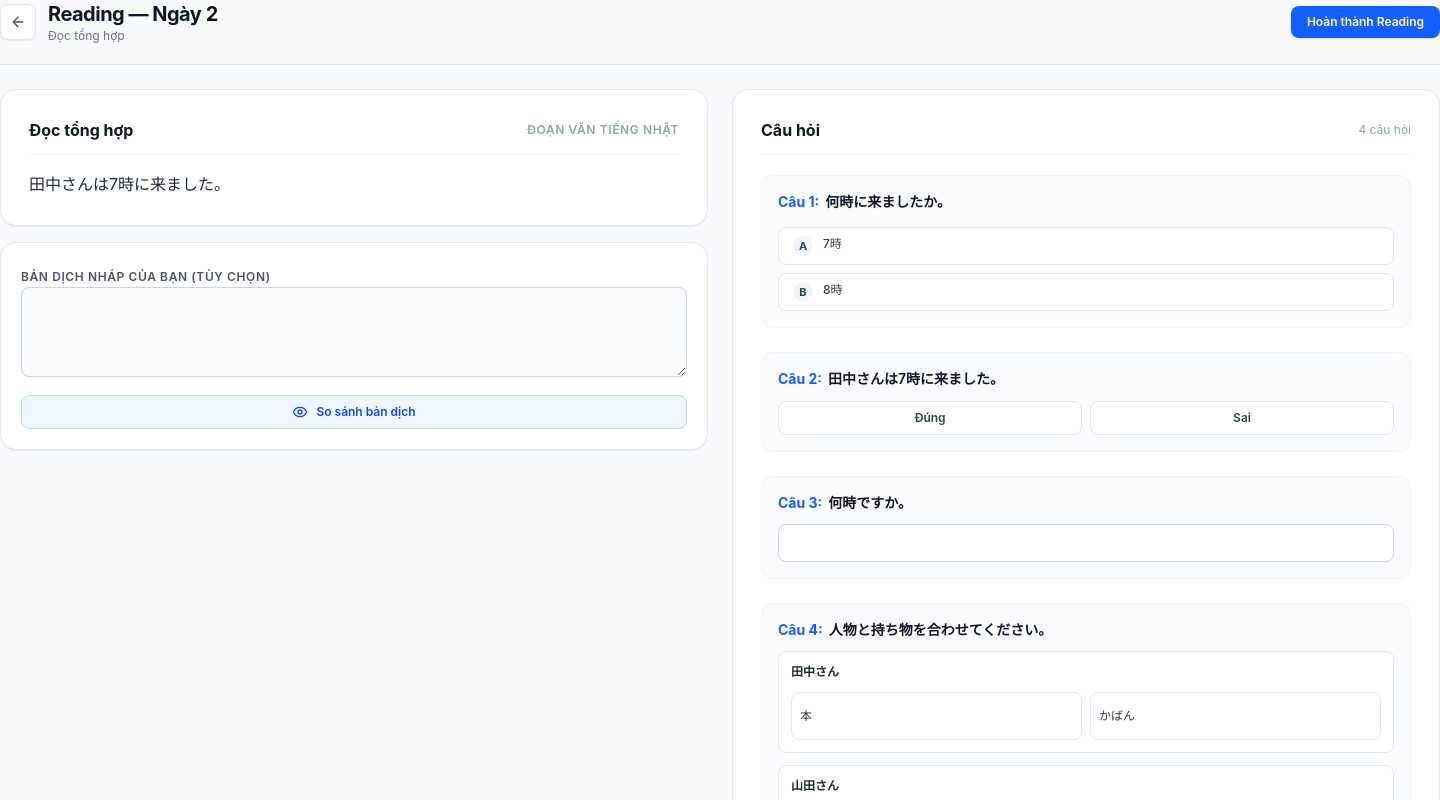
Reading schema v1.4 interactions › keeps existing text MCQ, true/false, short-answer, and matching behavior
Click the button "B 8時" at (803, 292), box [778,273,1394,311]
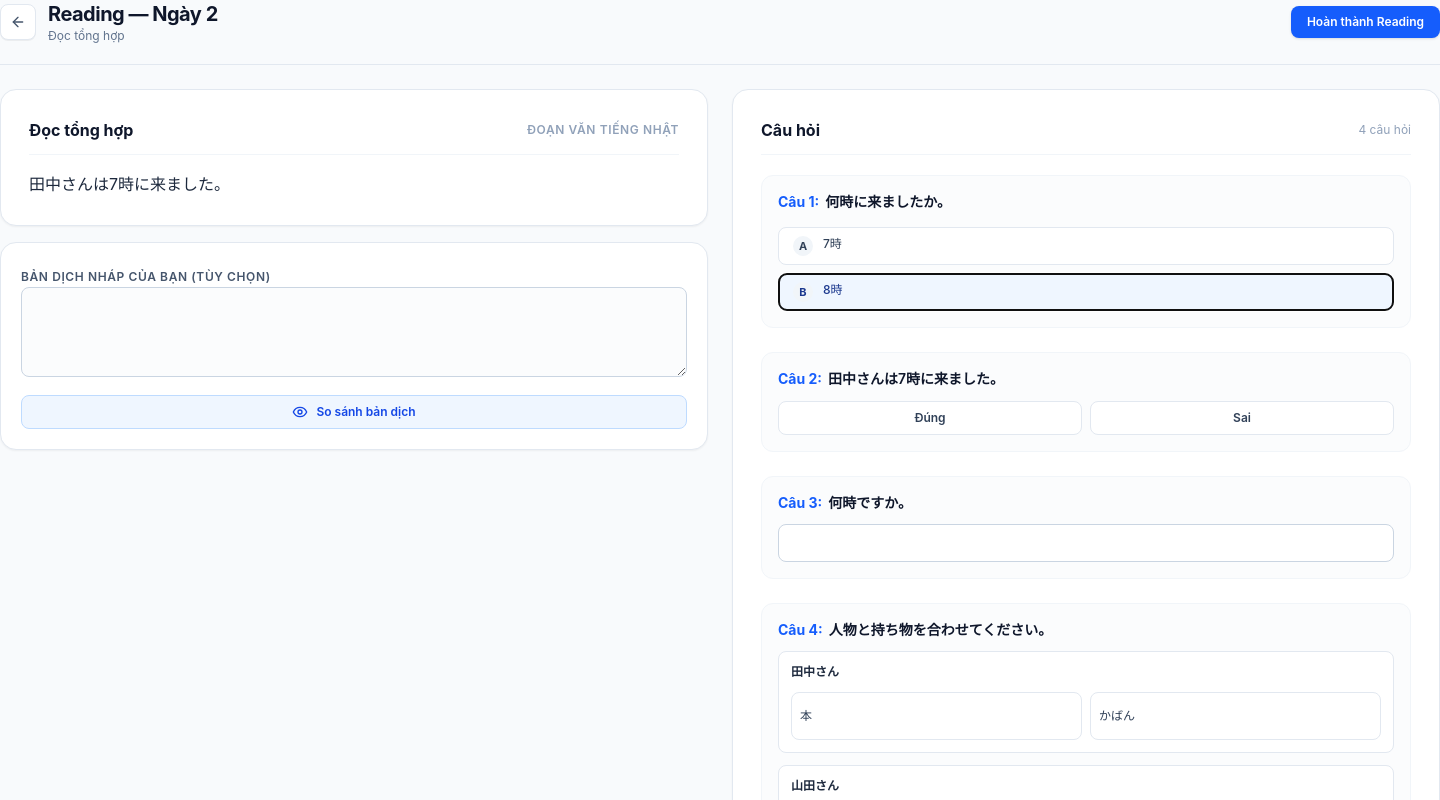
Click the button "Sai" at (1242, 418), box [1090,400,1394,434]
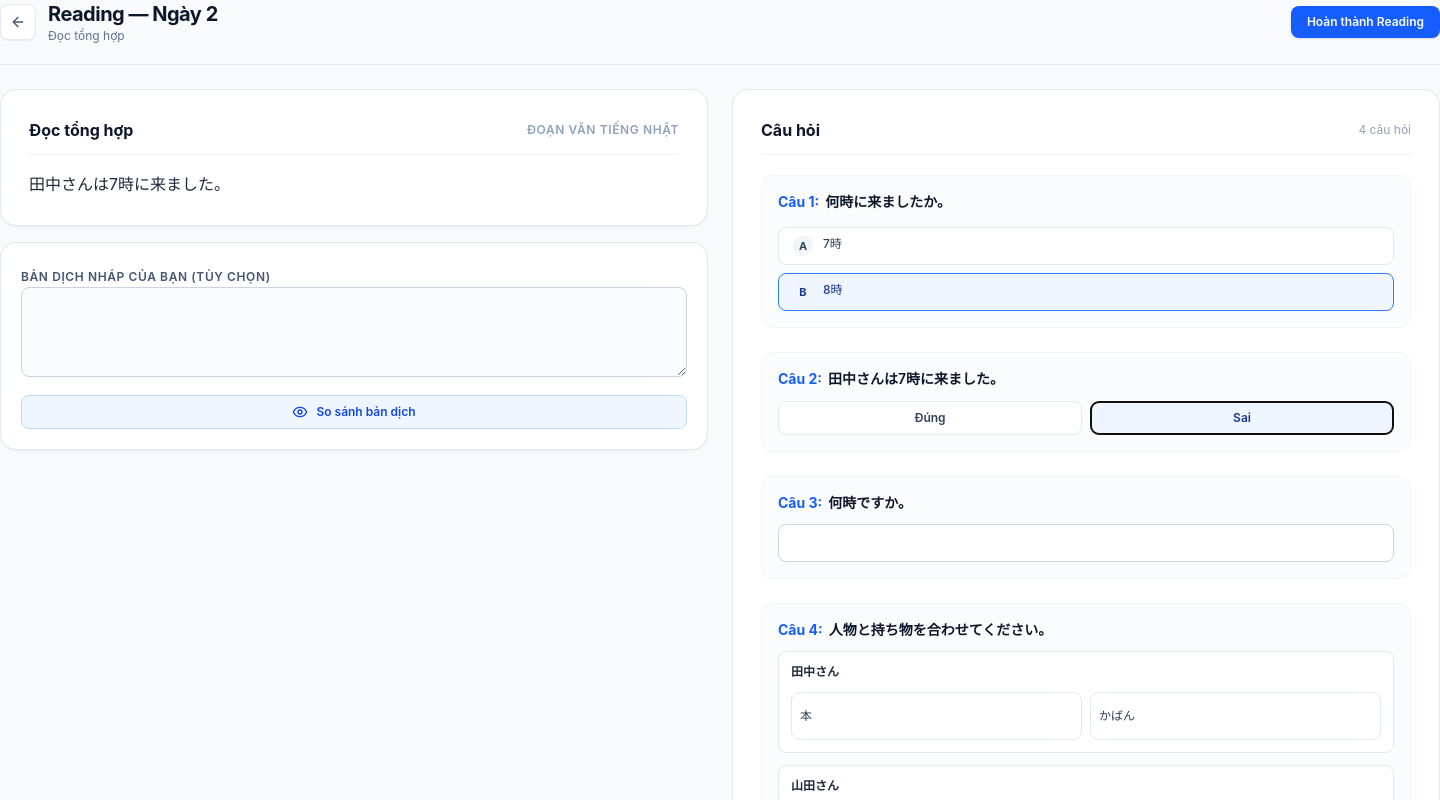
Type "  7時  " into the field named "Câu trả lời cho short" at (1086, 543), box [778,524,1394,562]
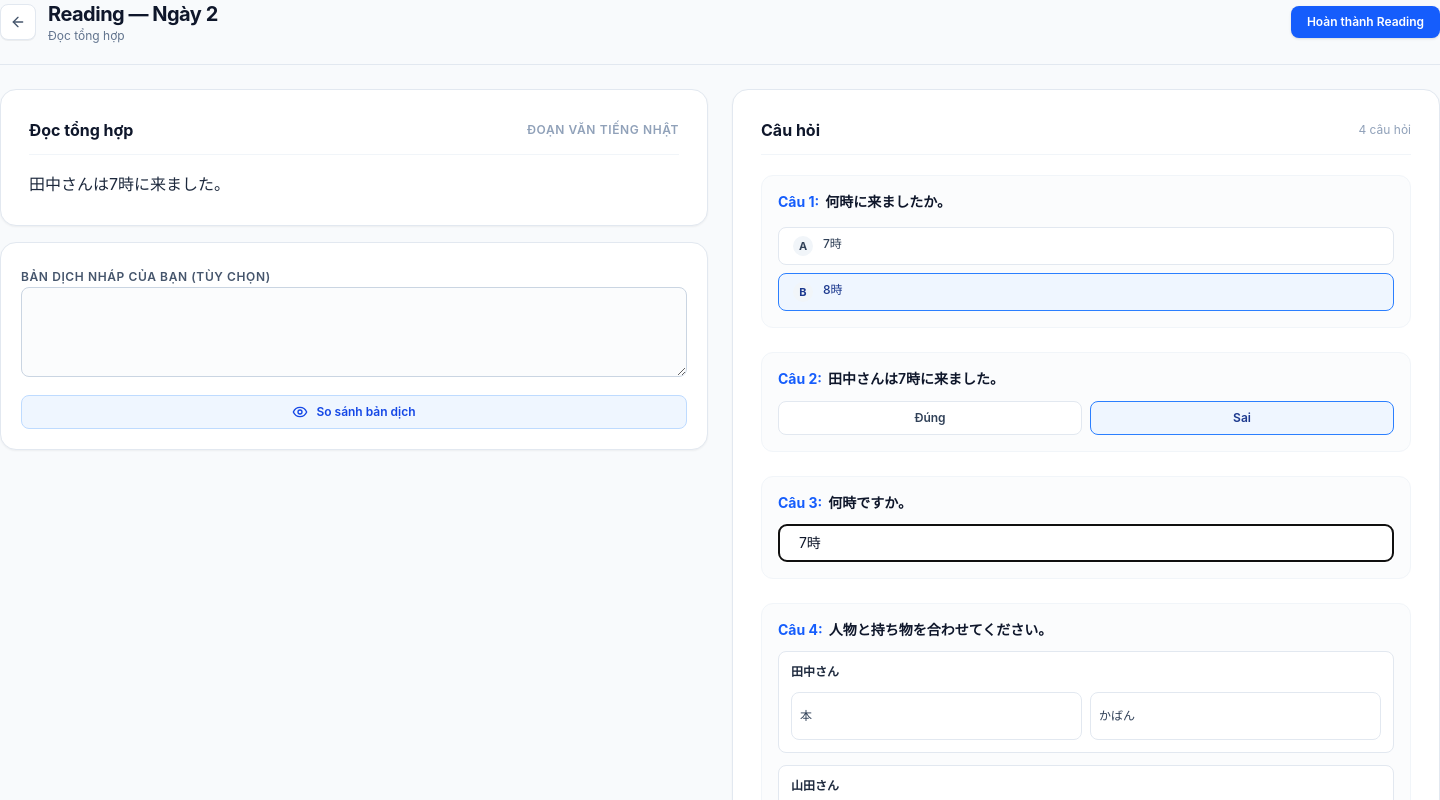
Click the button with test id "matching-candidate-matching-L1-R2" at (1117, 716), box [1090,692,1381,740]
(page scrolled)
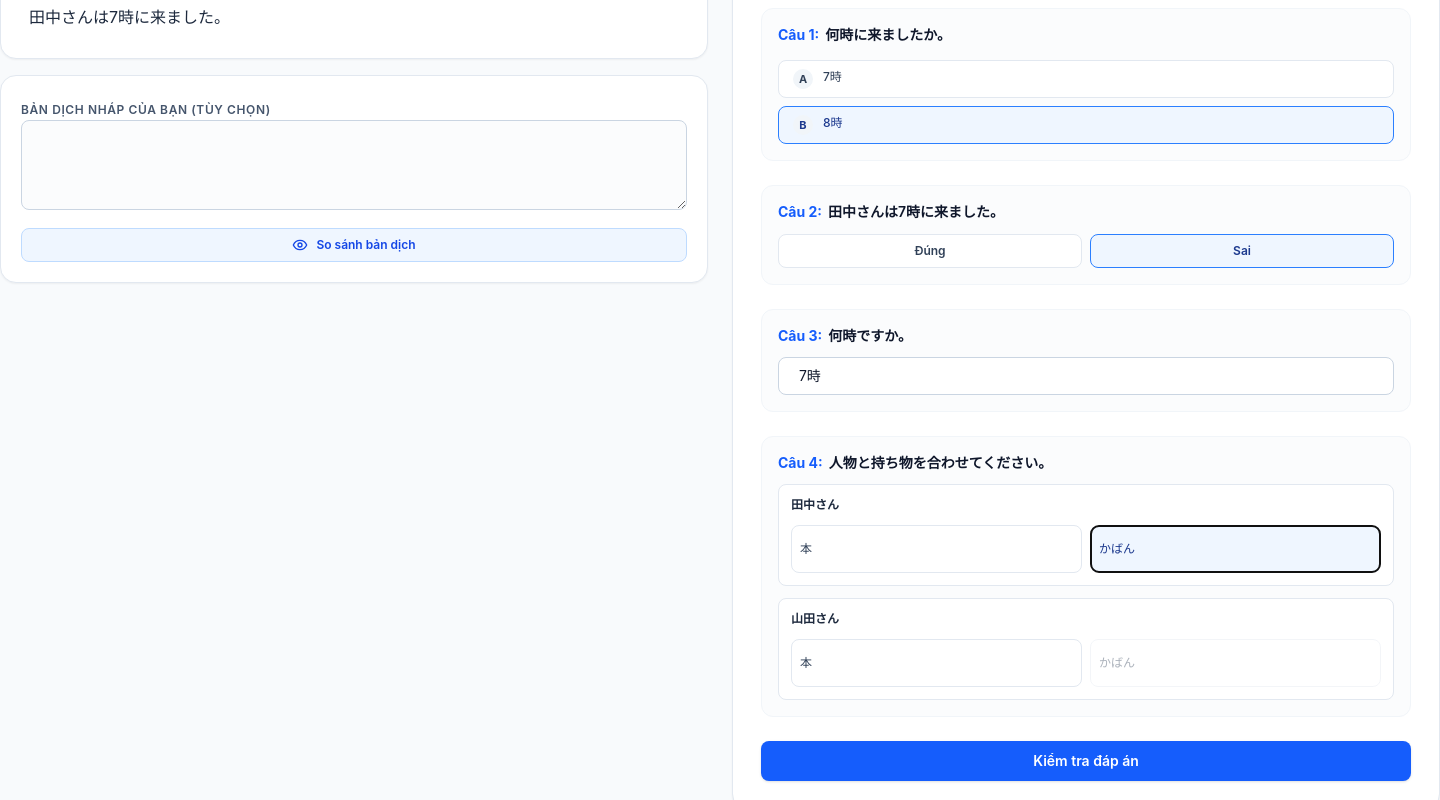
Click the button with test id "matching-candidate-matching-L2-R1" at (806, 662), box [791,639,1082,687]
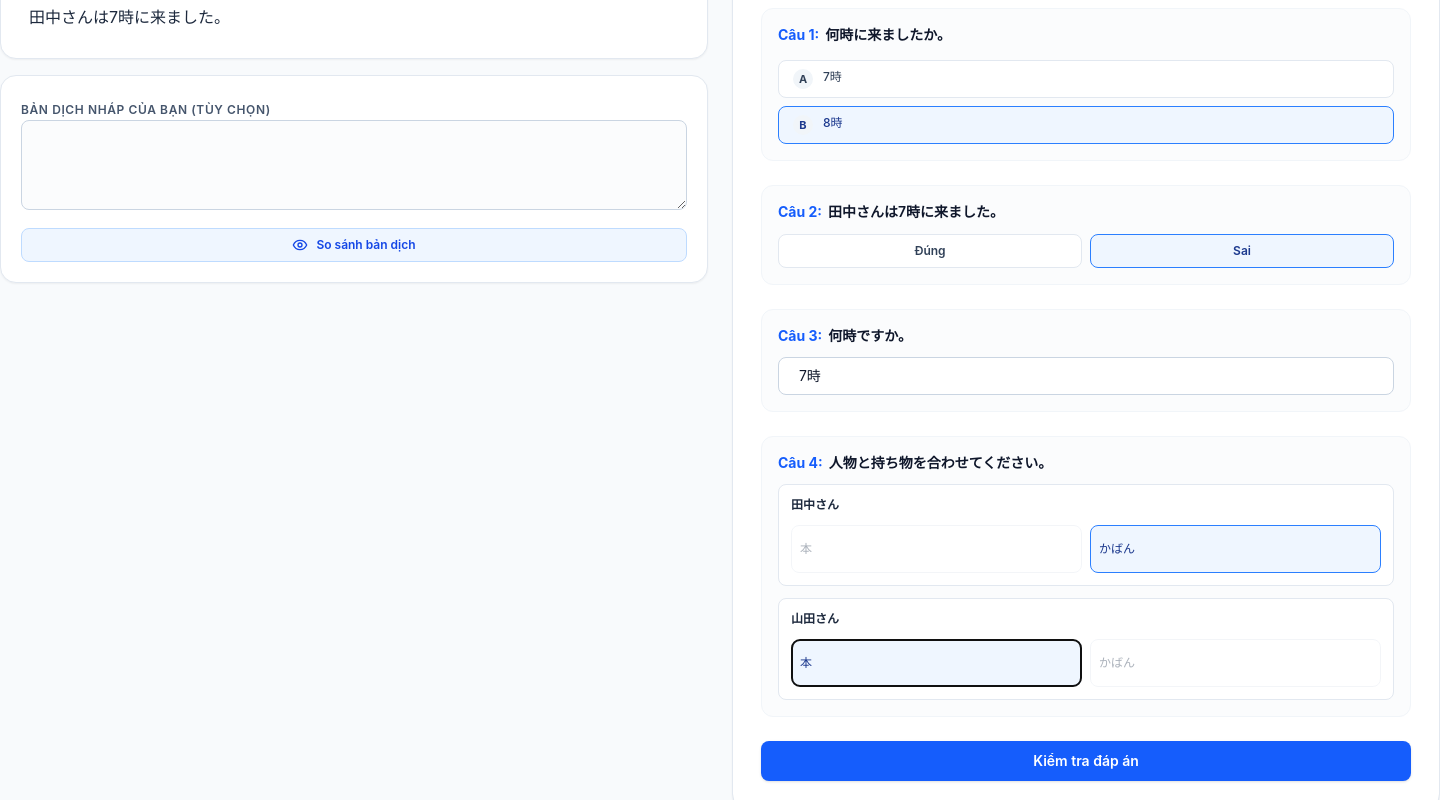
Click the button "Kiểm tra đáp án" at (1086, 761), box [761,741,1411,781]
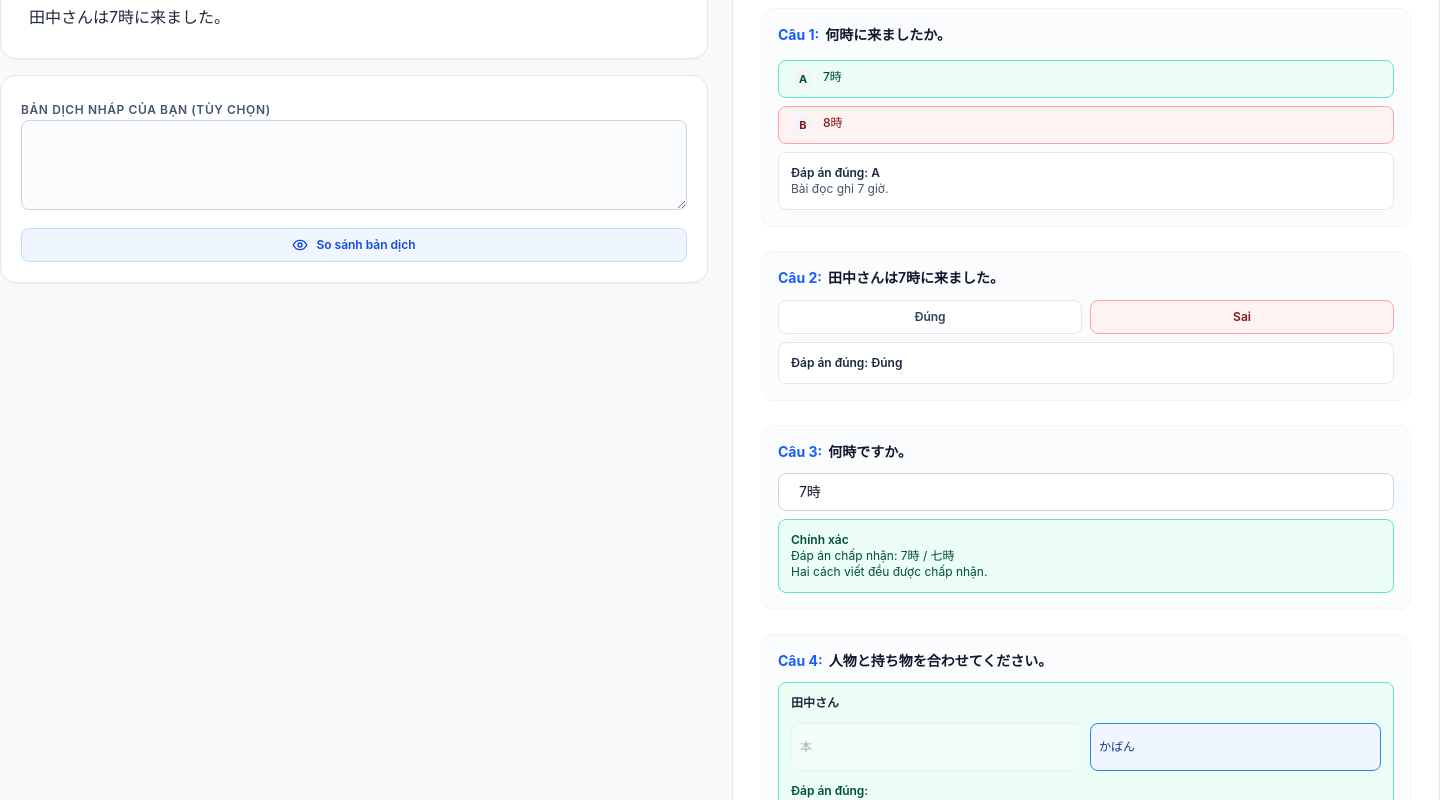
Expected: the element with test id "matching-row-matching-L1" shows "かばん", [1090,723,1381,771]
Expected: the element with test id "short-result-short" shows "Chính xác", [791,532,849,547]
Expected: the text "Bài đọc ghi 7 giờ." is shown, [791,181,888,196]
